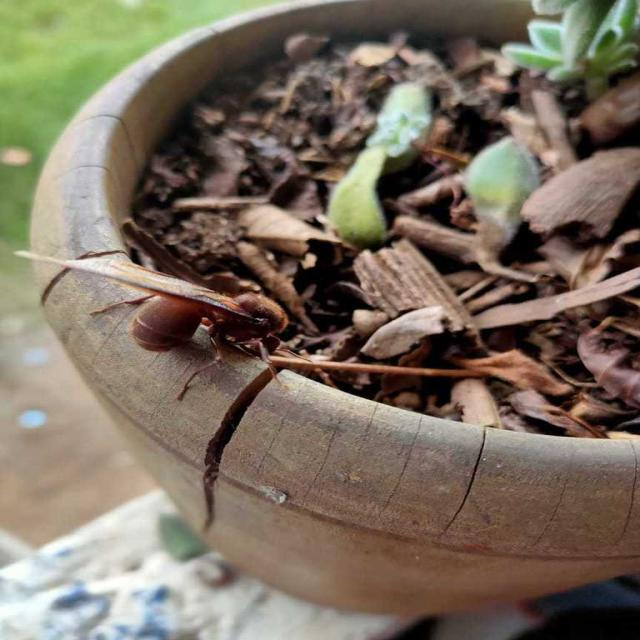Alive-Female-Alate: (13, 250, 313, 402)
